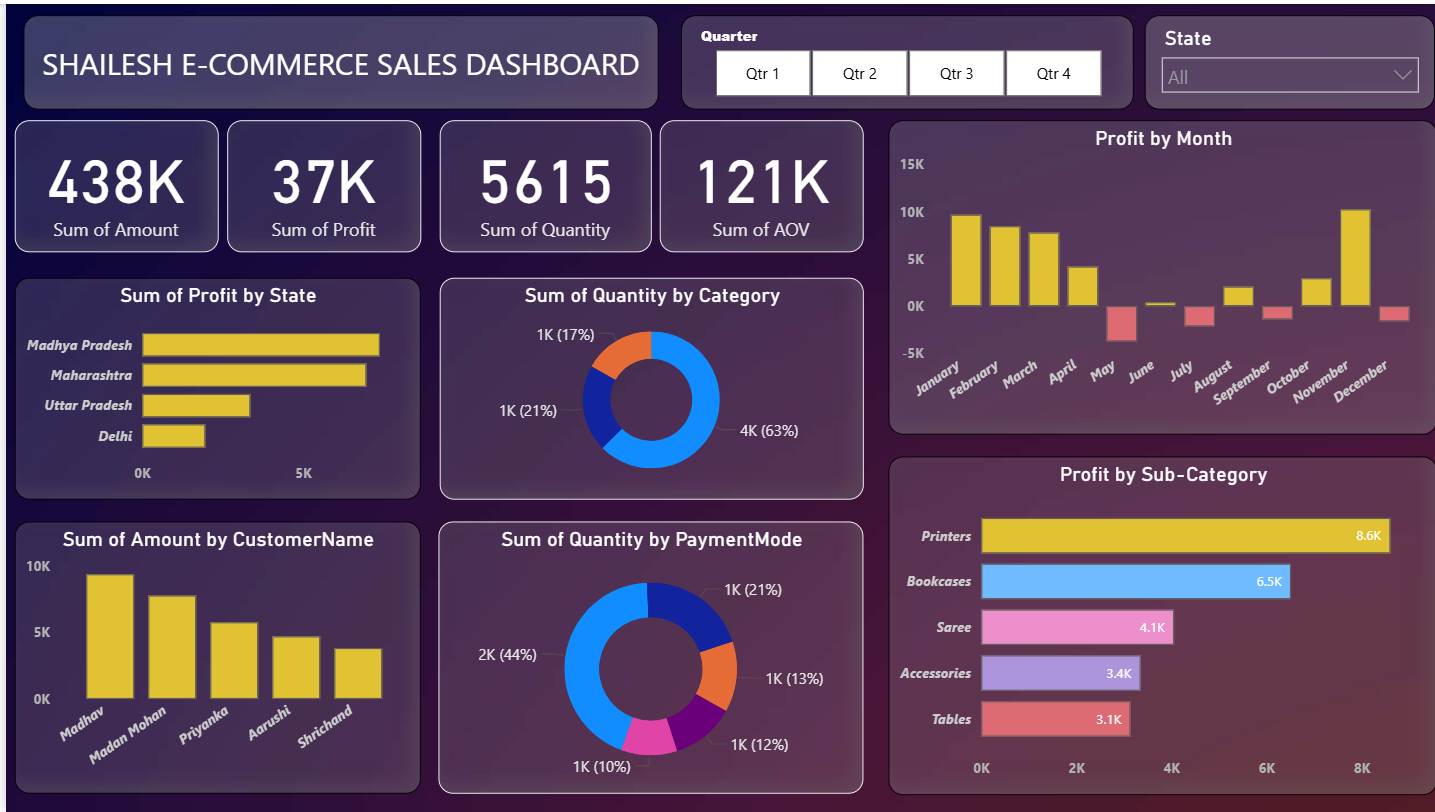

The page's visual inventory and layout, read from the dashboard file:
{"tool":"powerbi","page":{"name":"Page 1","canvas":[1280,720],"ordinal":0},"visuals":[{"type":"columnChart","title":" Profit by Month","fields":{"Y":["Details.Profit"],"Category":["Orders.Order Date.Variation.Date Hierarchy.Month"]},"box":[786.2,103.8,488.8,280],"z":0},{"type":"clusteredBarChart","title":" Profit by Sub-Category","fields":{"Category":["Details.Sub-Category"],"Y":["Details.Profit"]},"box":[786.2,402.5,488.8,301.2],"z":1000},{"type":"donutChart","fields":{"Category":["Details.Category"],"Y":["Details.Quantity"]},"box":[386.2,243.8,377.5,197.5],"z":2000},{"type":"donutChart","fields":{"Category":["Details.PaymentMode"],"Y":["Details.Quantity"]},"box":[385,461.2,378.8,242.5],"z":3000},{"type":"card","fields":{"Values":["Details.Amount"]},"box":[7.5,103.8,181.2,117.5],"z":4000},{"type":"barChart","fields":{"Category":["Orders.State"],"Y":["Details.Profit"]},"box":[7.5,243.8,361.2,197.5],"z":5000},{"type":"clusteredColumnChart","fields":{"Category":["Orders.CustomerName"],"Y":["Details.Amount"]},"box":[7.5,461.2,361.2,242.5],"z":6000},{"type":"card","fields":{"Values":["Details.Profit"]},"box":[197.5,103.8,172.5,117.5],"z":7000},{"type":"card","fields":{"Values":["Details.Quantity"]},"box":[386.2,103.8,188.8,117.5],"z":8000},{"type":"card","fields":{"Values":["Details.AOV"]},"box":[582.5,103.8,181.2,117.5],"z":9000},{"type":"shape","box":[15.7,10,565.7,84.3],"z":10000},{"type":"slicer","fields":{"Values":["Orders.Order Date.Variation.Date Hierarchy.Quarter"]},"box":[601.4,10,402.9,84.3],"z":11000},{"type":"slicer","fields":{"Values":["Orders.State"]},"box":[1014.3,10,258.6,84.3],"z":12000}]}

Visuals, with their boxes in screenshot pixels (x1, y1, x2, y2), scaled from the page's 1280x720 canvas onto the 1435x812 screenshot:
" Profit by Month" columnChart: [881, 117, 1429, 433]
" Profit by Sub-Category" clusteredBarChart: [881, 454, 1429, 794]
donutChart - Details.Category x Details.Quantity: [433, 275, 856, 498]
donutChart - Details.PaymentMode x Details.Quantity: [432, 520, 856, 794]
card - Details.Amount: [8, 117, 212, 250]
barChart - Orders.State x Details.Profit: [8, 275, 413, 498]
clusteredColumnChart - Orders.CustomerName x Details.Amount: [8, 520, 413, 794]
card - Details.Profit: [221, 117, 415, 250]
card - Details.Quantity: [433, 117, 645, 250]
card - Details.AOV: [653, 117, 856, 250]
shape: [18, 11, 652, 106]
slicer - Orders.Order Date.Variation.Date Hierarchy.Quarter: [674, 11, 1126, 106]
slicer - Orders.State: [1137, 11, 1427, 106]
